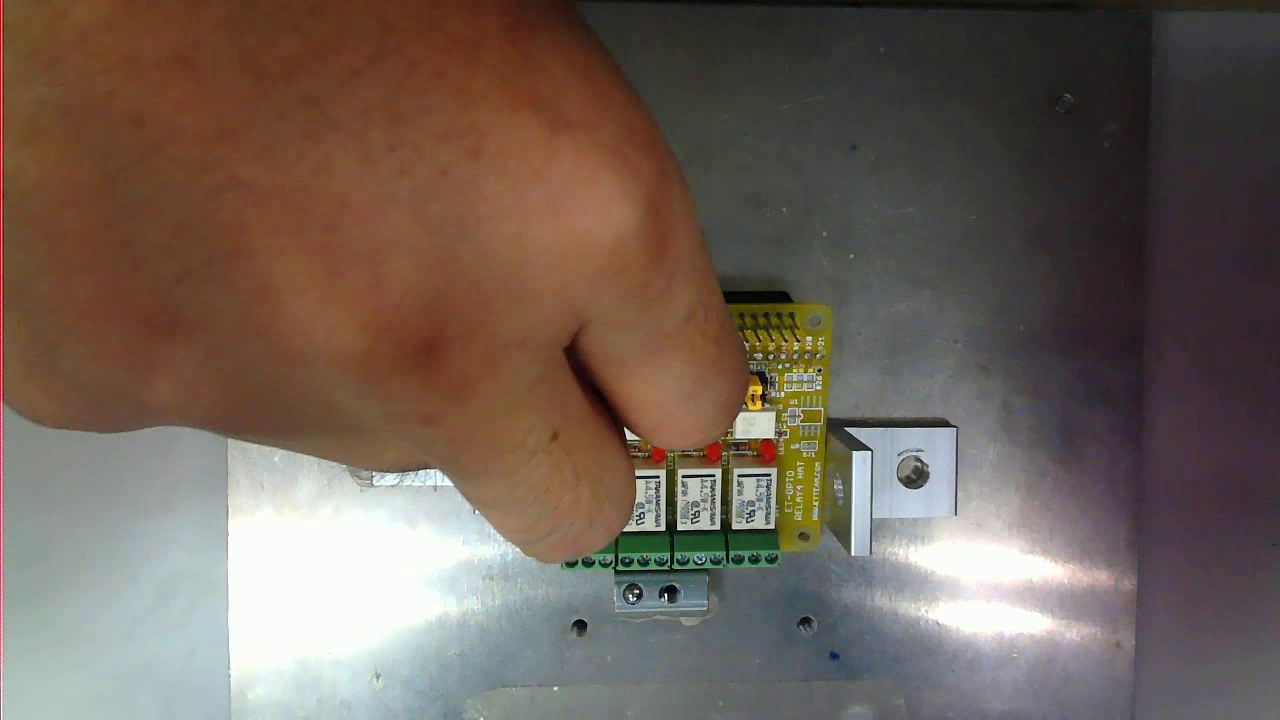can: (558, 296, 831, 570)
